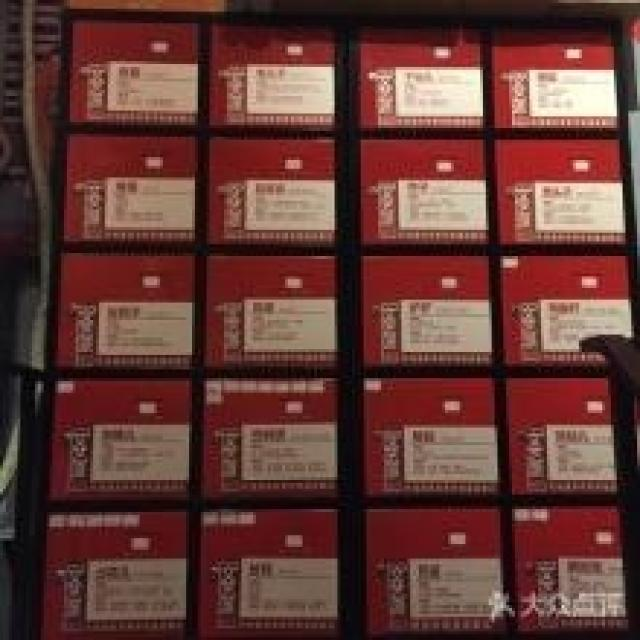box: (198, 506, 343, 637), (364, 506, 506, 637), (41, 512, 186, 640), (49, 378, 192, 500), (204, 375, 340, 497), (55, 253, 198, 369), (364, 378, 500, 495), (512, 509, 631, 640), (204, 256, 340, 369), (361, 256, 497, 367), (500, 256, 631, 369), (495, 137, 628, 247), (506, 378, 623, 500), (207, 137, 335, 247), (361, 137, 489, 247), (64, 137, 198, 241), (67, 20, 198, 125), (209, 26, 335, 131), (358, 32, 486, 131), (492, 38, 617, 131), (70, 0, 224, 12)
